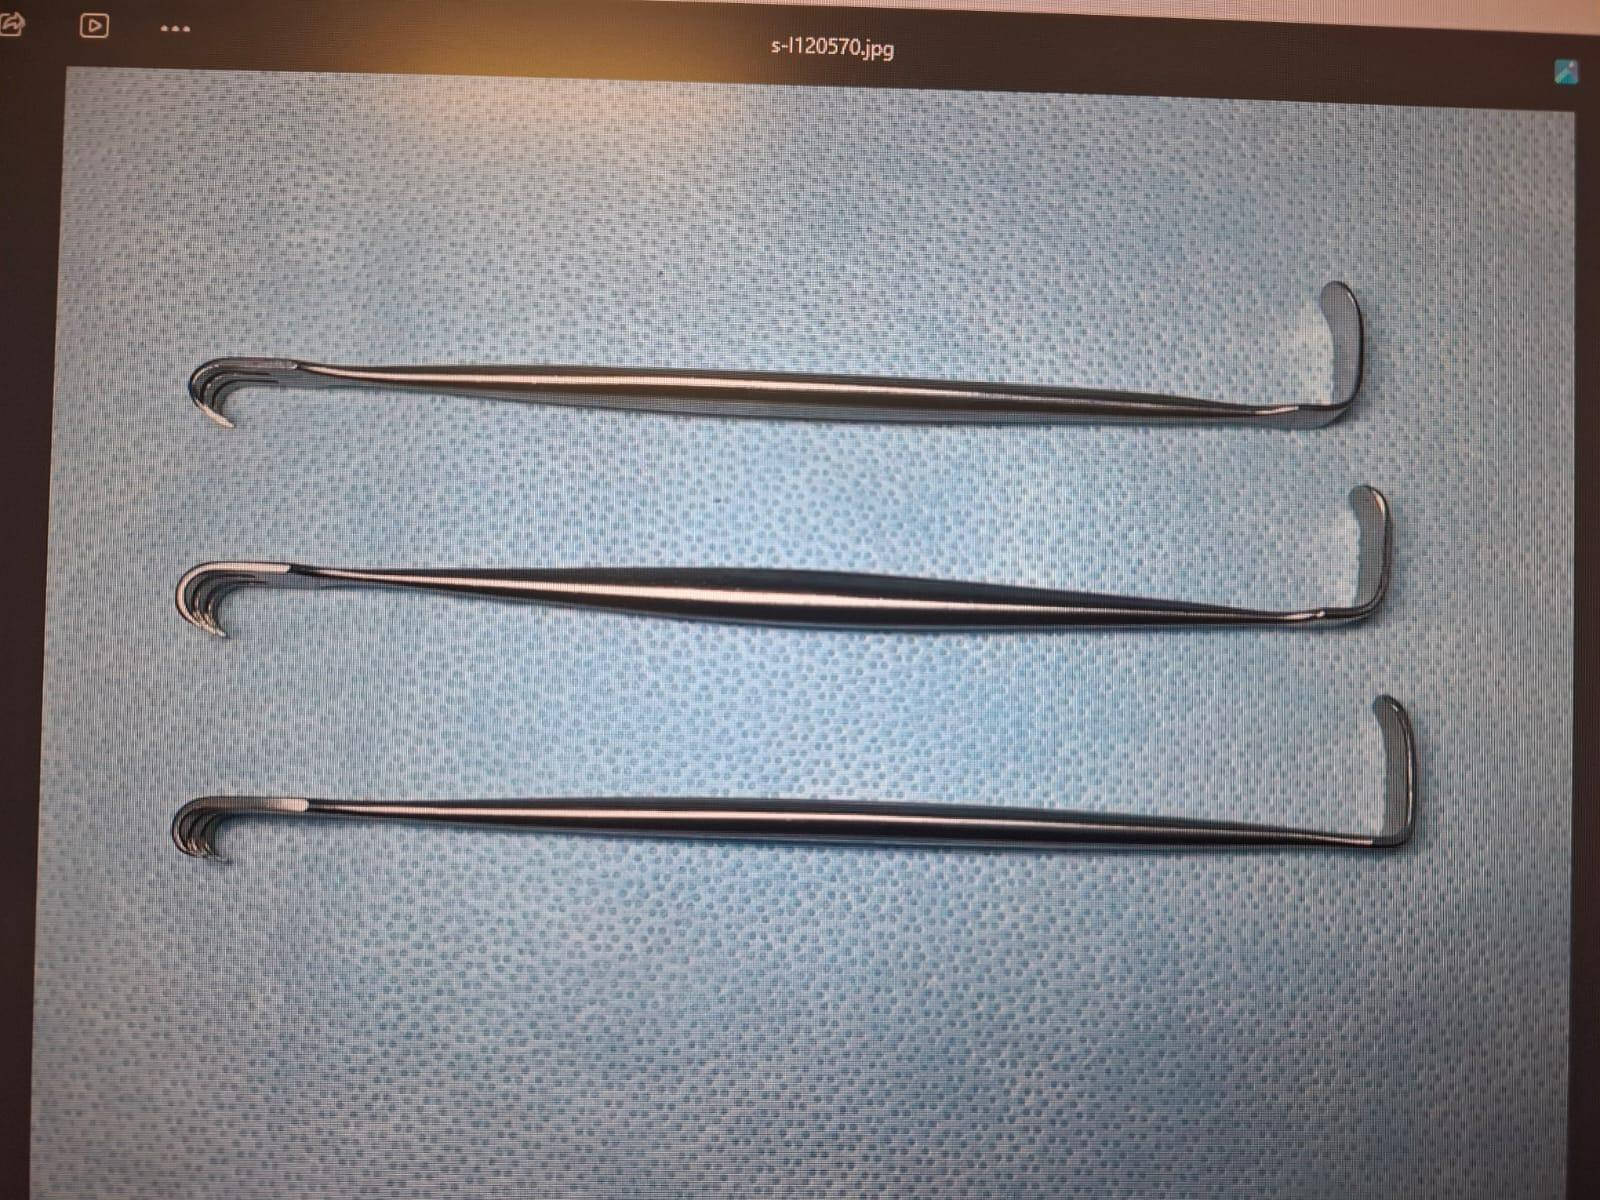Senn Retractor: (158, 676, 1434, 888), (170, 258, 1388, 452), (168, 476, 1412, 656)
